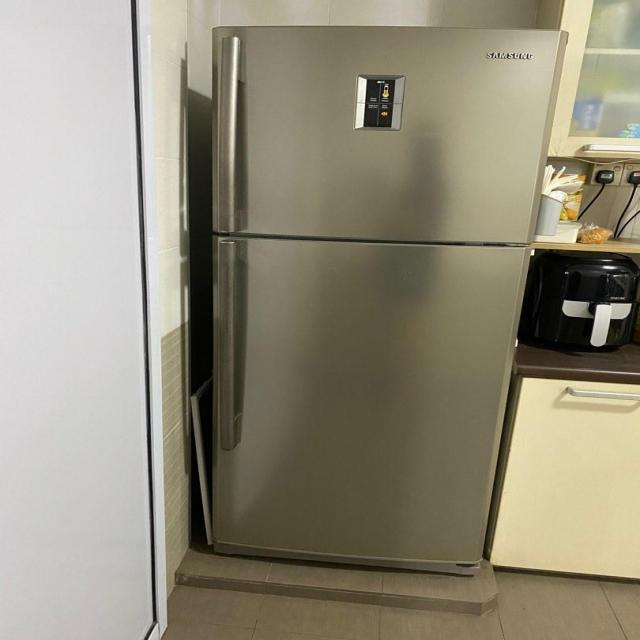refrigerator: (200, 24, 570, 570)
